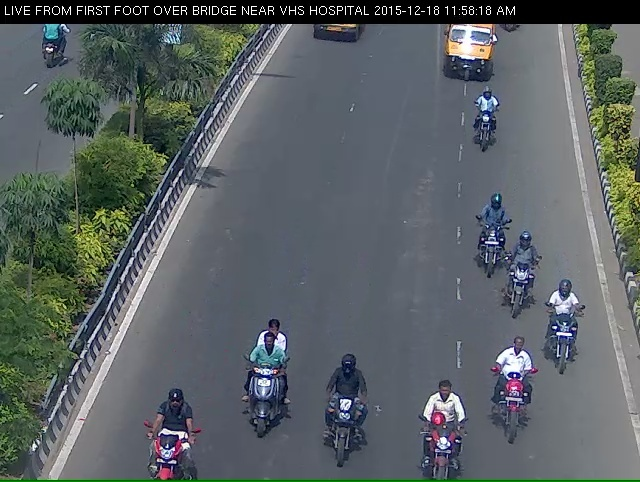Car: (439, 24, 493, 87)
Person: (231, 343, 281, 467), (495, 358, 534, 462), (548, 286, 582, 393), (318, 395, 364, 474), (127, 424, 181, 477), (504, 242, 531, 342), (420, 417, 463, 478), (475, 205, 504, 292), (468, 96, 499, 163)
